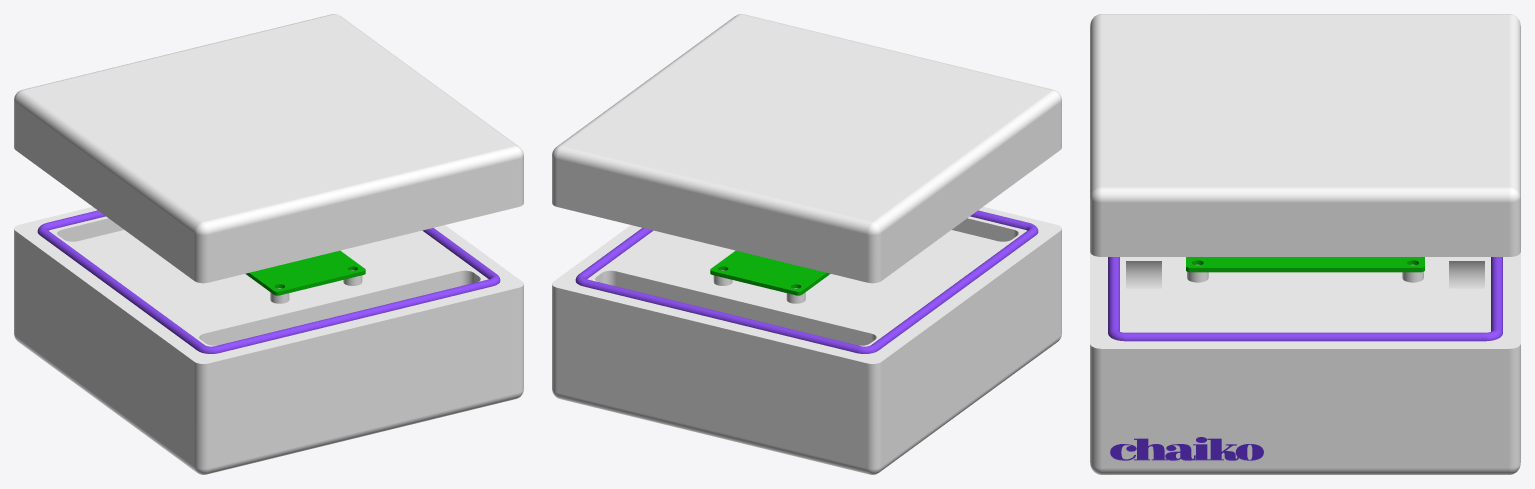
Rendered from chaiko_mockup.glb.
3 renders of one model, left to right at view 1: azimuth 30°, elevation 25°; view 2: azimuth 150°, elevation 25°; view 3: azimuth 270°, elevation 25°, orthographic. The views are drawn at different scales.
Parts seen in each view (by area): view 1: chaiko_closure_lid-1, chaiko_enclosure-2, chaiko_o_ring-1; view 2: chaiko_closure_lid-1, chaiko_enclosure-2, chaiko_o_ring-1; view 3: chaiko_closure_lid-1, chaiko_enclosure-2, chaiko_o_ring-1.
Boxes of the visible parts, x1,y1,x2,y2 form: chaiko_closure_lid-1: [14, 14, 523, 283]; chaiko_enclosure-2: [14, 207, 523, 474]; chaiko_o_ring-1: [37, 210, 500, 353]; chaiko_closure_lid-1: [552, 14, 1061, 283]; chaiko_enclosure-2: [552, 207, 1061, 474]; chaiko_o_ring-1: [575, 210, 1038, 353]; chaiko_closure_lid-1: [1090, 14, 1520, 256]; chaiko_enclosure-2: [1090, 252, 1520, 474]; chaiko_o_ring-1: [1108, 257, 1502, 341].
Bounding box in the file's own units: 0.18 × 0.1323 × 0.18.
